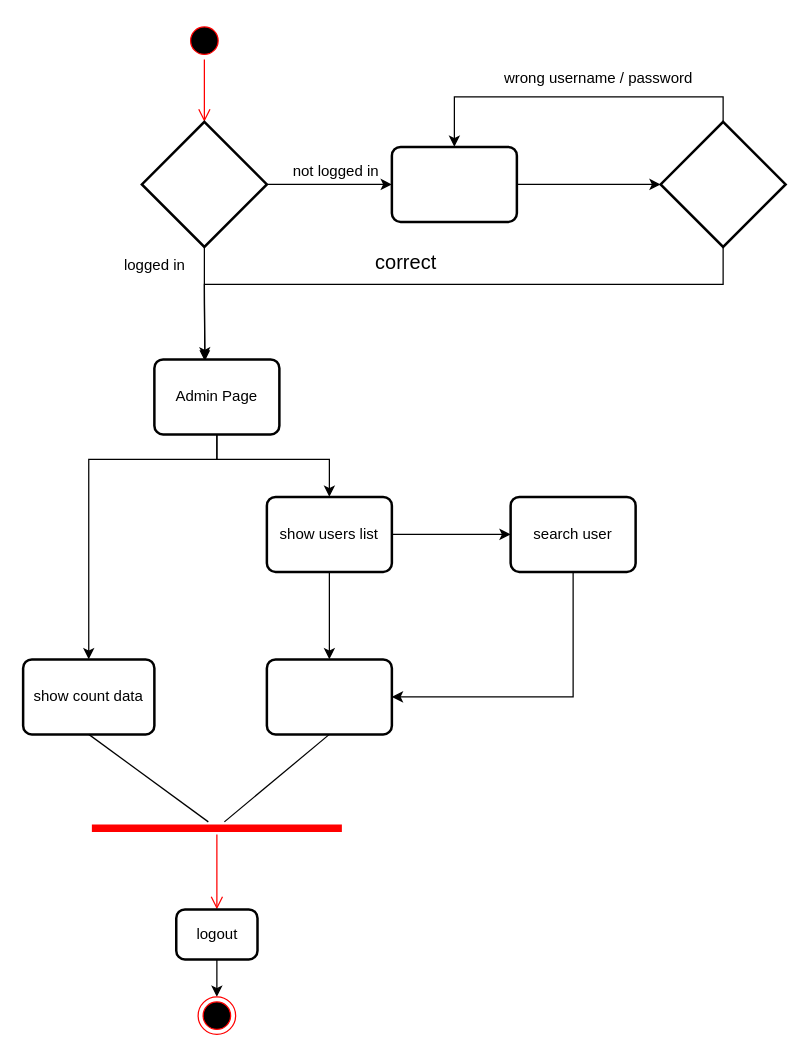
The diagram is 808 pixels wide and 1056 high, and some of its shapes have lost their labels. The centre of each missing label's shape, as x and y in pixels:
"lock/unlock user" belongs at (x=328, y=696).
"sign in" belongs at (x=454, y=183).
